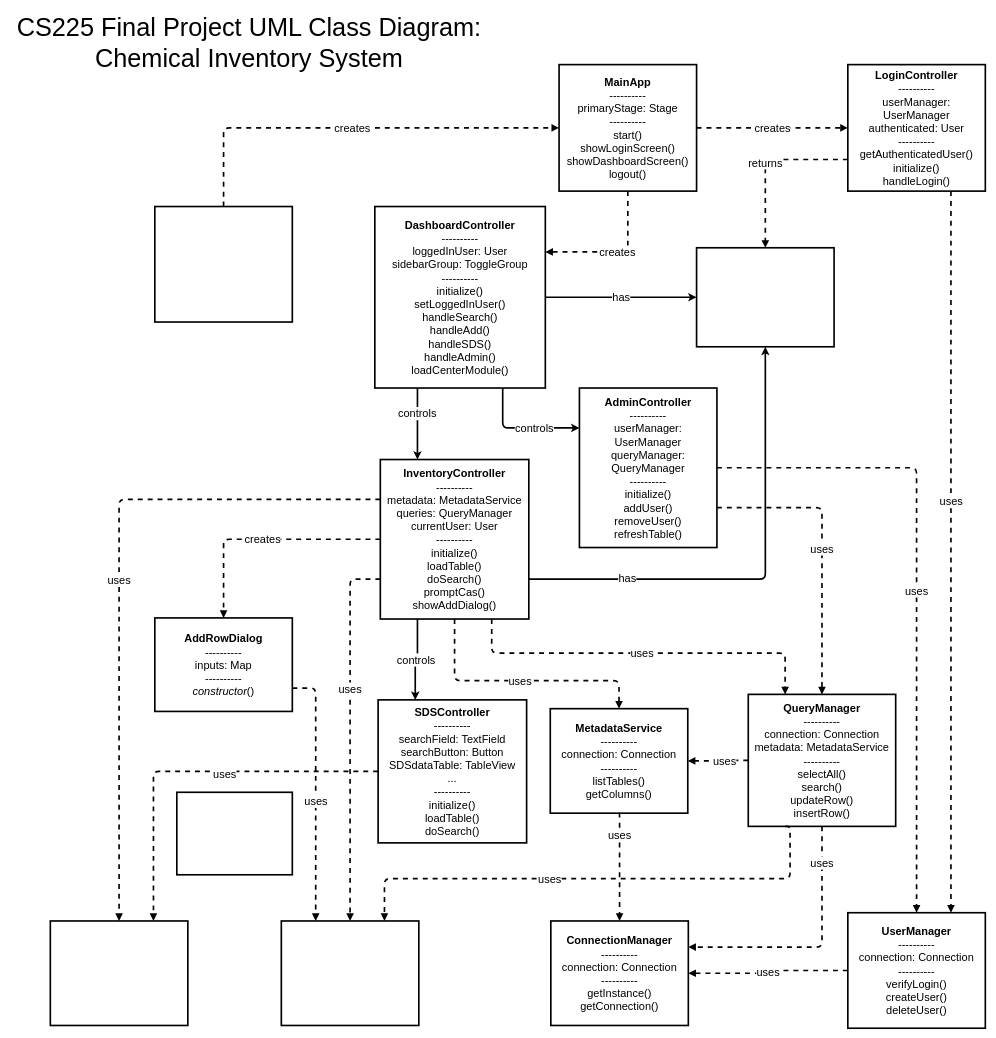
This 996x1038 diagram has some shape labels left out. The shapes that lost their labels are listed below. From the top down, each one's centre as x and y in pixels, then its label:
At point (223, 264): "Main ---------- (no attributes) ---------- main()".
At point (765, 297): "User ---------- name role ---------- (getters)".
At point (234, 833): "RowDetailsDialog ---------- (no attributes) ---------- constructor ()".
At point (118, 973): "PubChemService ---------- (no attributes) ---------- browseByCas() openSDSPage()".
At point (349, 973): "ColumnData ---------- name type primaryKey ---------- (getters)".
